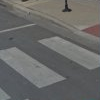crosswalk: (0, 36, 99, 100)
